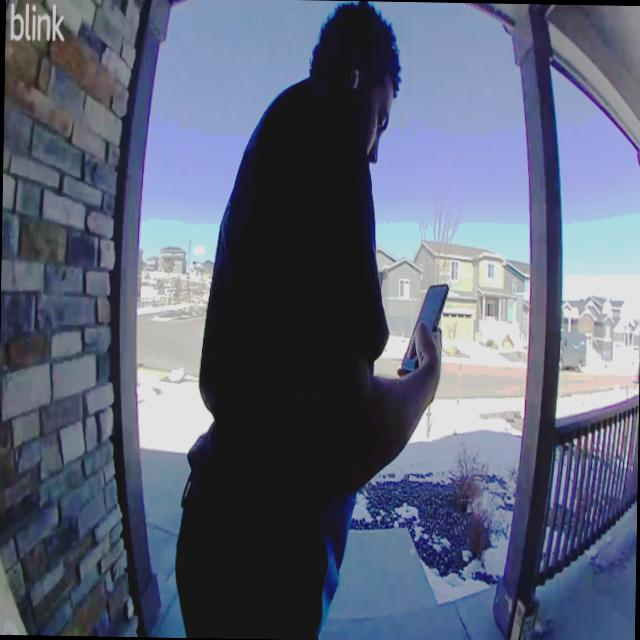Box: (508, 589, 539, 640)
